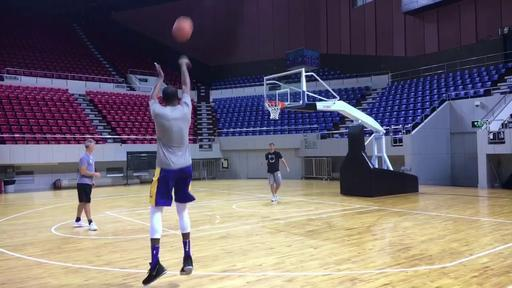ball: (172, 14, 194, 42)
human: (142, 55, 195, 286), (73, 138, 101, 230), (265, 142, 290, 202)
rim: (264, 100, 284, 119)
